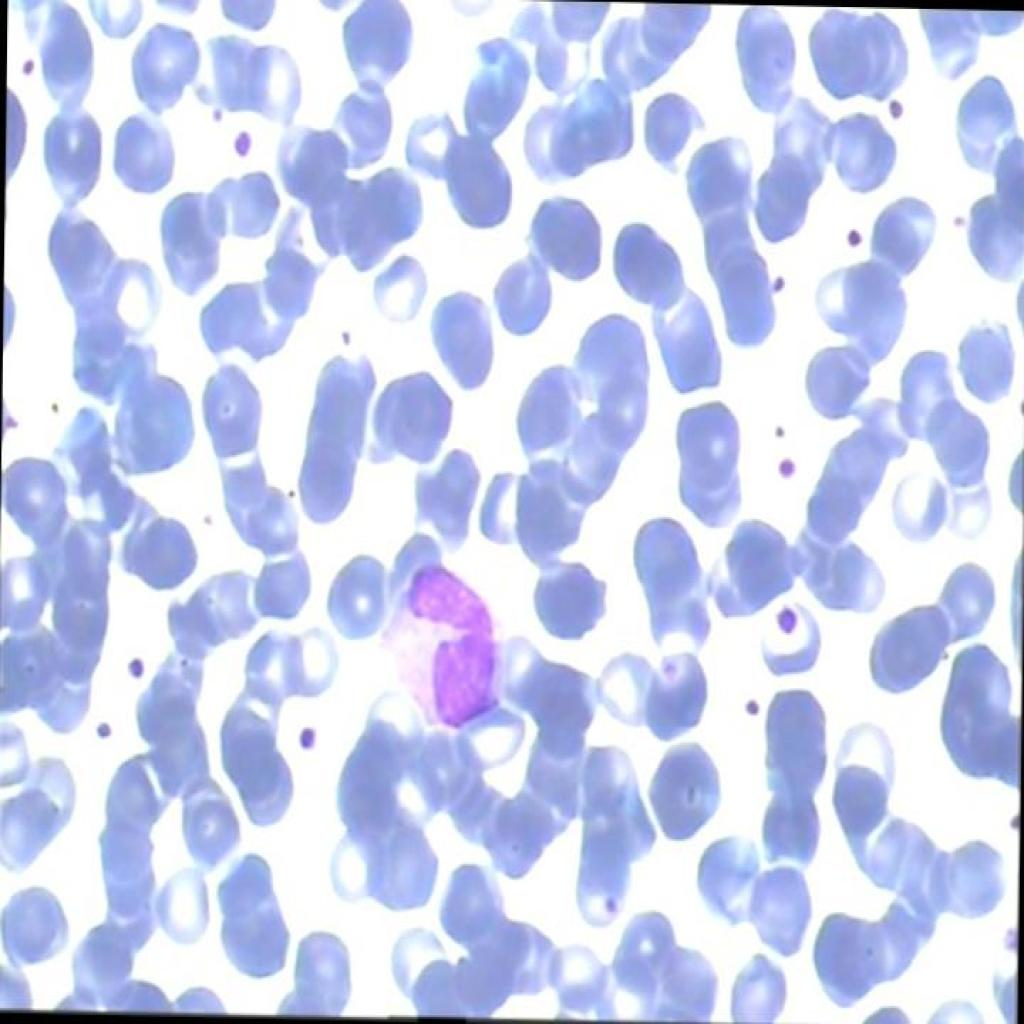Monosit: (371, 554, 522, 754)
Platelet: (767, 585, 812, 643), (81, 711, 118, 765), (292, 718, 322, 775), (221, 112, 253, 165), (322, 315, 362, 357), (110, 646, 150, 686), (836, 215, 866, 256), (760, 268, 786, 314), (8, 48, 42, 82), (732, 681, 761, 720), (772, 448, 796, 491), (768, 414, 791, 448), (882, 89, 904, 123), (199, 92, 219, 124)
